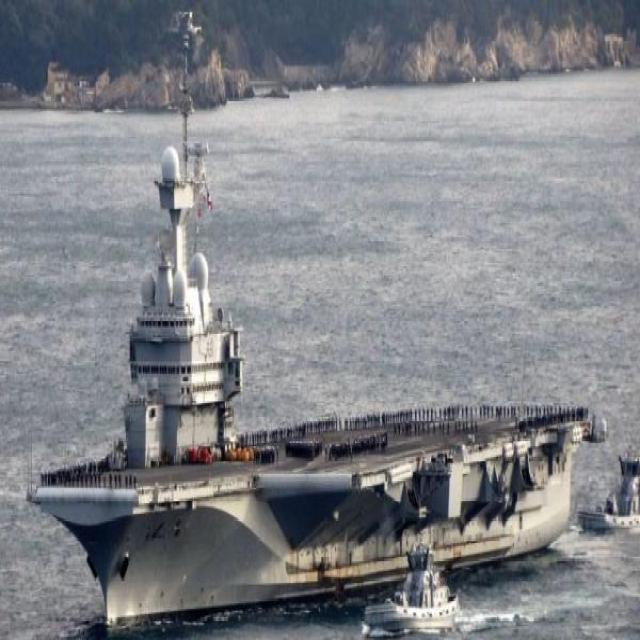Container Ship: (26, 8, 593, 627)
